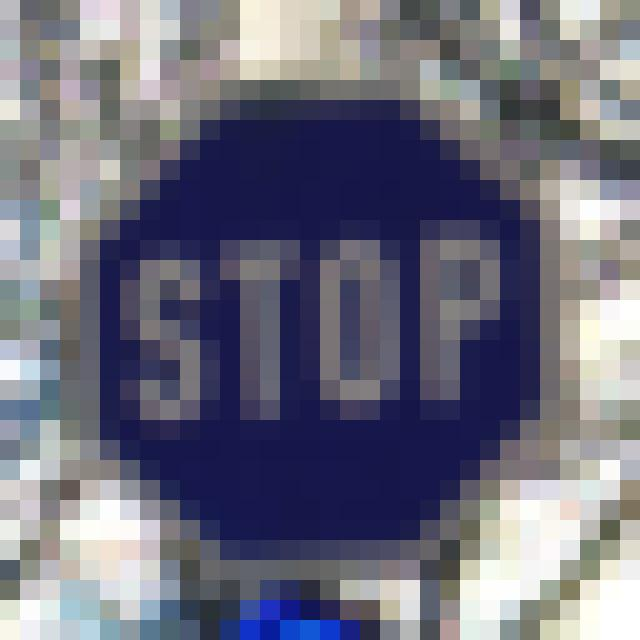STOP: (84, 100, 554, 556)
